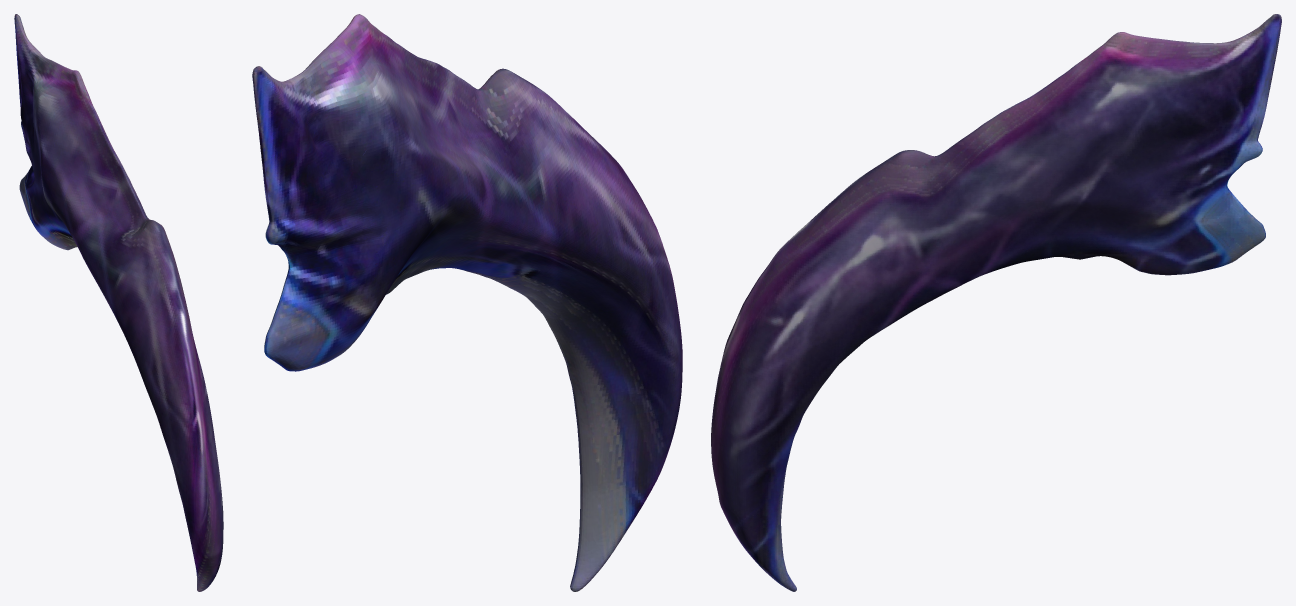
The model's file is claw_of_the_trickster.glb.
3 renders of one model, left to right at view 1: azimuth 30°, elevation 25°; view 2: azimuth 150°, elevation 25°; view 3: azimuth 270°, elevation 25°, orthographic. The views are drawn at different scales.
Bounding box in the file's own units: 0.2566 × 1.99 × 1.78.
1 material, 1 textured.
